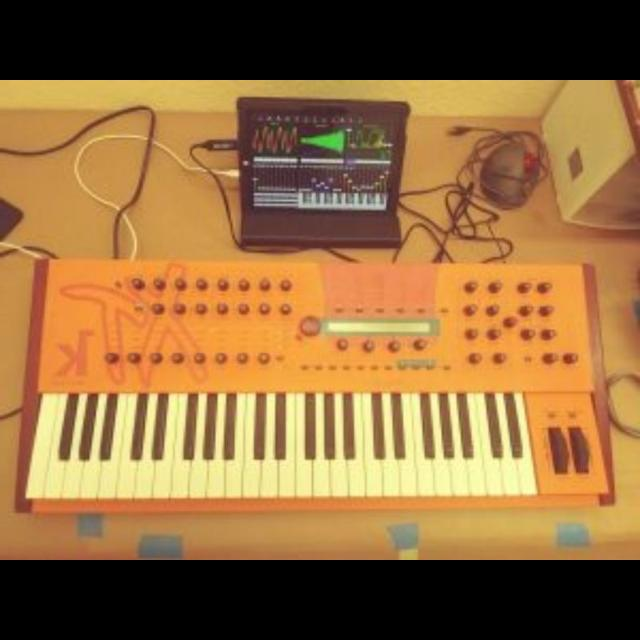Electronic-Keyboard: (22, 245, 610, 513)
